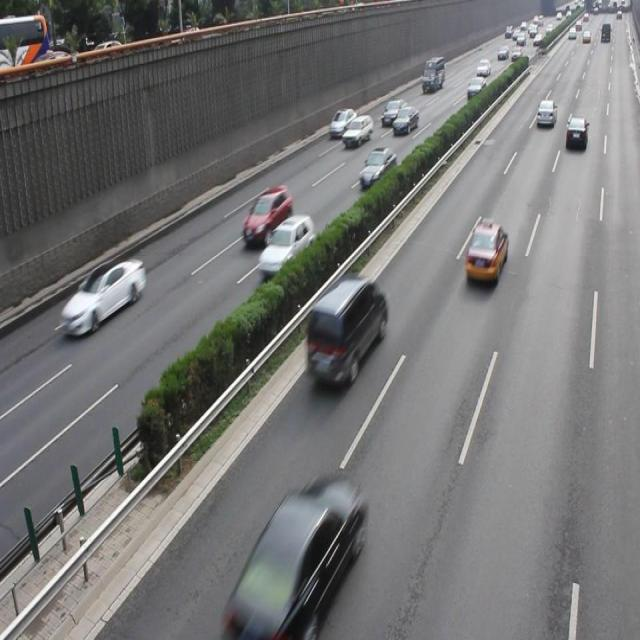car: (235, 481, 363, 640), (60, 255, 146, 336), (256, 215, 314, 278), (241, 184, 292, 248), (463, 222, 507, 285), (358, 146, 396, 189)
truck: (304, 277, 388, 388)
